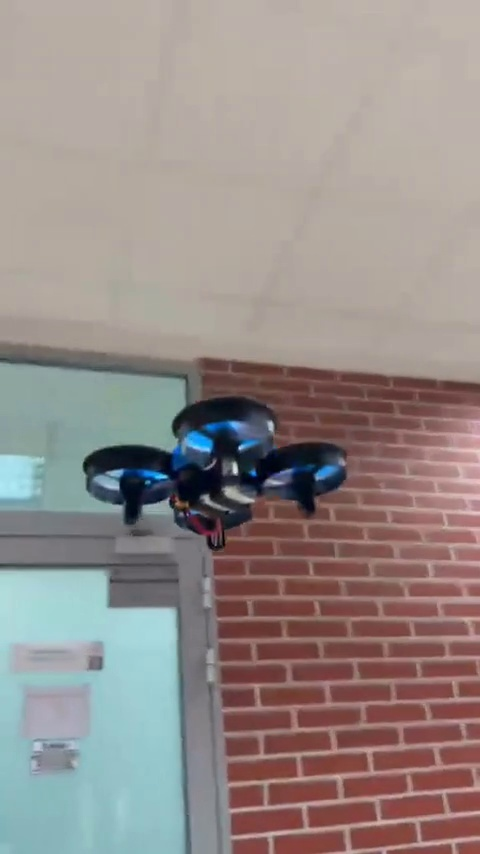drone: (86, 402, 355, 557)
